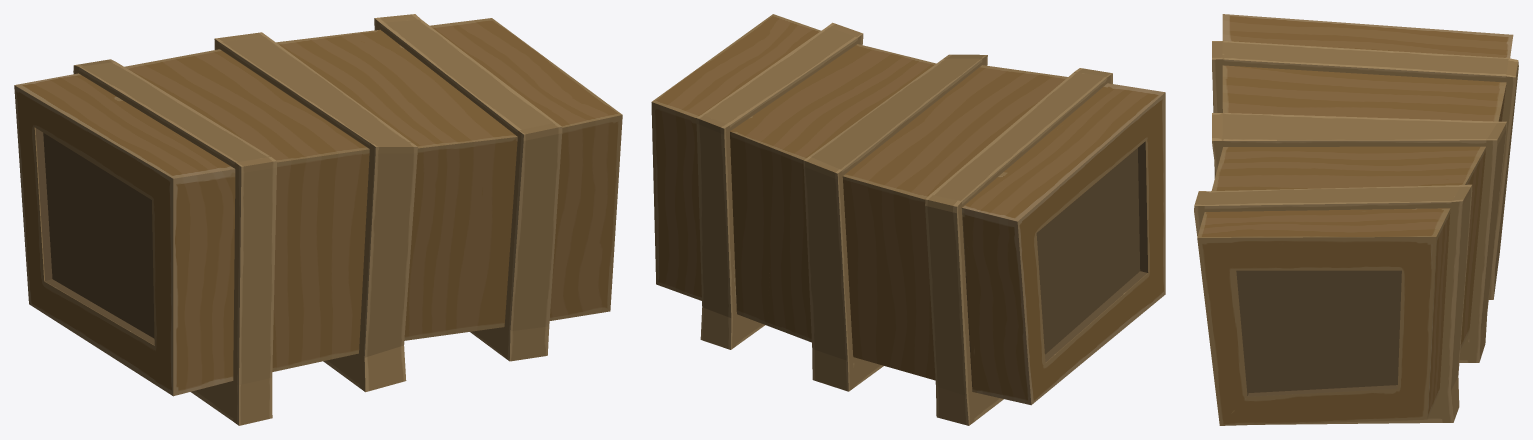
Rendered from CajaMadera.fbx.
3 renders of one model, left to right at view 1: azimuth 30°, elevation 25°; view 2: azimuth 150°, elevation 25°; view 3: azimuth 270°, elevation 25°, orthographic. The views are drawn at different scales.
Parts seen in each view (by area): view 1: Caja_madera_02PTRSZ; view 2: Caja_madera_02PTRSZ; view 3: Caja_madera_02PTRSZ.
Part boxes in pixels (x1=…): Caja_madera_02PTRSZ: x1=14, y1=14, x2=622, y2=425; Caja_madera_02PTRSZ: x1=651, y1=14, x2=1165, y2=425; Caja_madera_02PTRSZ: x1=1194, y1=14, x2=1518, y2=425.
Bounding box in the file's own units: 2.25 × 1.32 × 1.59.
